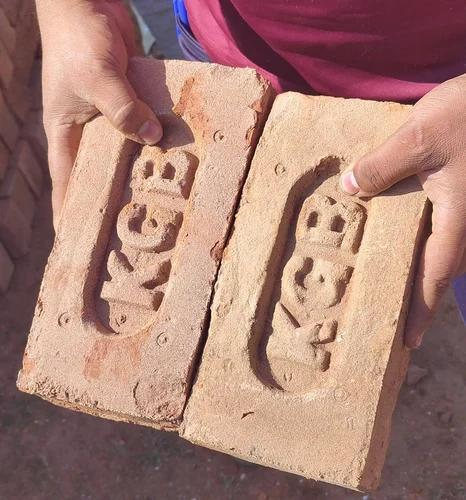brick: (179, 92, 433, 490), (19, 58, 262, 429)
